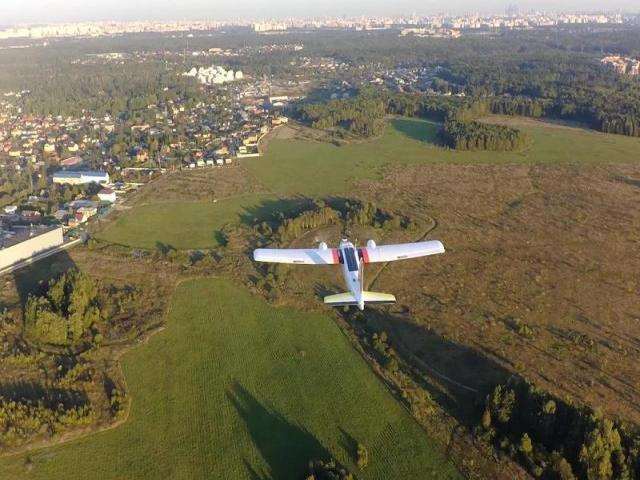hedef: (240, 214, 466, 324)
